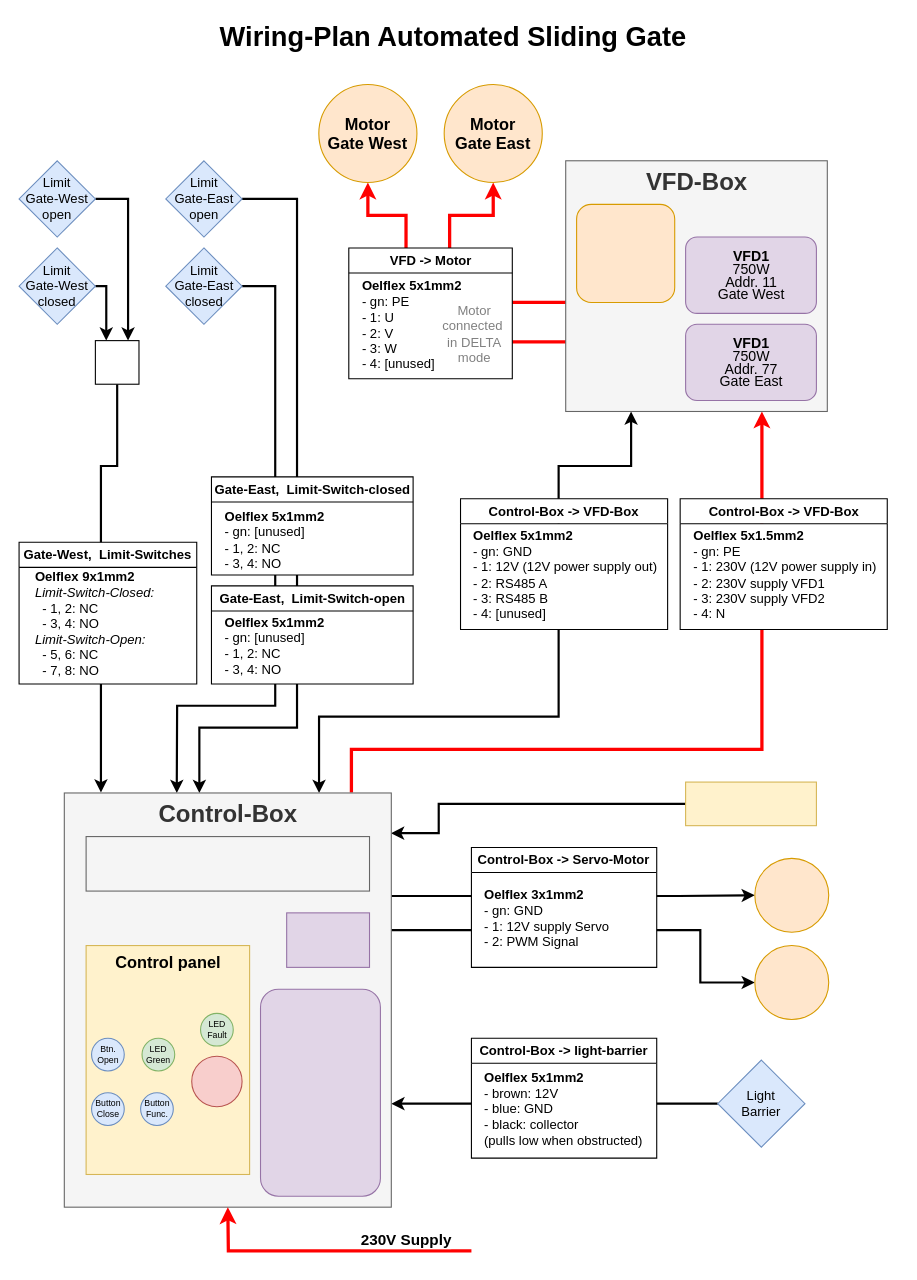
Some shapes in this 917 by 1280 pixel diagram are drawn without their labels. The shapes that lost their labels are listed below. From the top down, each one's centre as x and y in pixels, then its label:
pixel 625 252: 12V Power supply
pixel 116 362: Box
pixel 750 803: Buttons in Gate Open/Close
pixel 227 863: Terminals
pixel 791 894: Servo Motor Lock Gate-West
pixel 328 939: Remote Receiver 2Ch
pixel 791 981: Servo Motor Lock Gate-East
pixel 216 1081: Emergency Stop
pixel 319 1092: Custom Control Board
